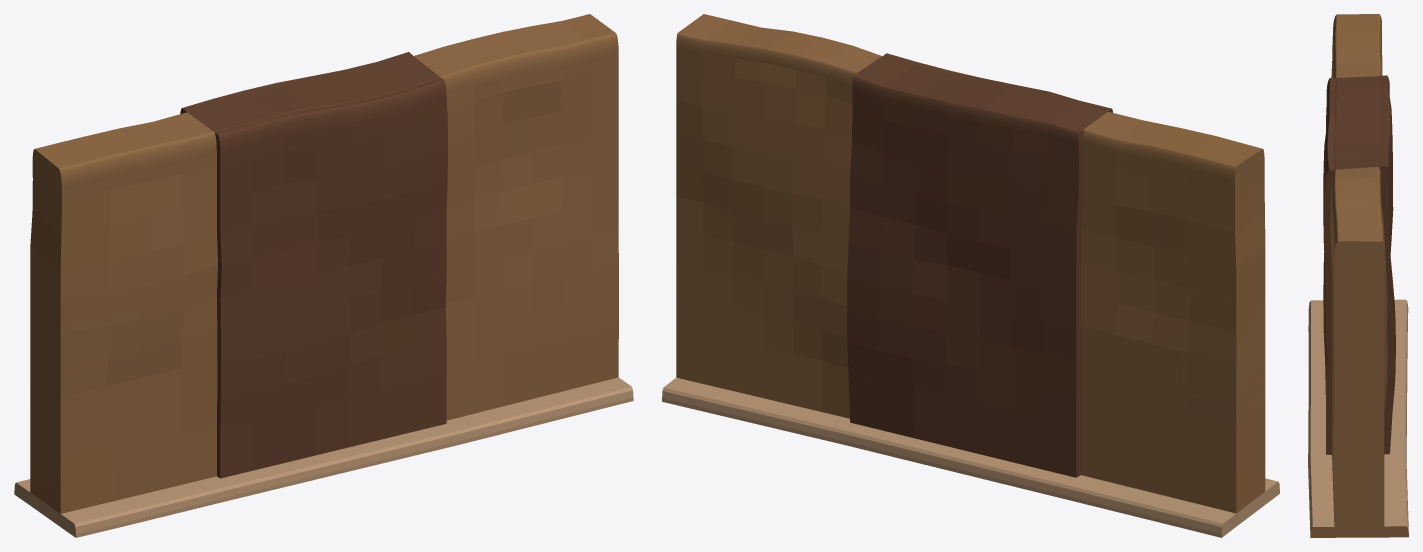
The model's file is Wall Mud-Wall_01.fbx.
3 views of the same model, side by side, from view 1: azimuth 30°, elevation 25°; view 2: azimuth 150°, elevation 25°; view 3: azimuth 270°, elevation 25° (orthographic). The views are drawn at different scales.
Parts seen in each view (by area): view 1: Wall Mud-Wall_01; view 2: Wall Mud-Wall_01; view 3: Wall Mud-Wall_01.
Part boxes in pixels (left/top/right/bottom): Wall Mud-Wall_01: left=14, top=14, right=633, bottom=537; Wall Mud-Wall_01: left=662, top=14, right=1279, bottom=537; Wall Mud-Wall_01: left=1308, top=14, right=1408, bottom=537.
Bounding box in the file's own units: 569 × 351 × 107.
